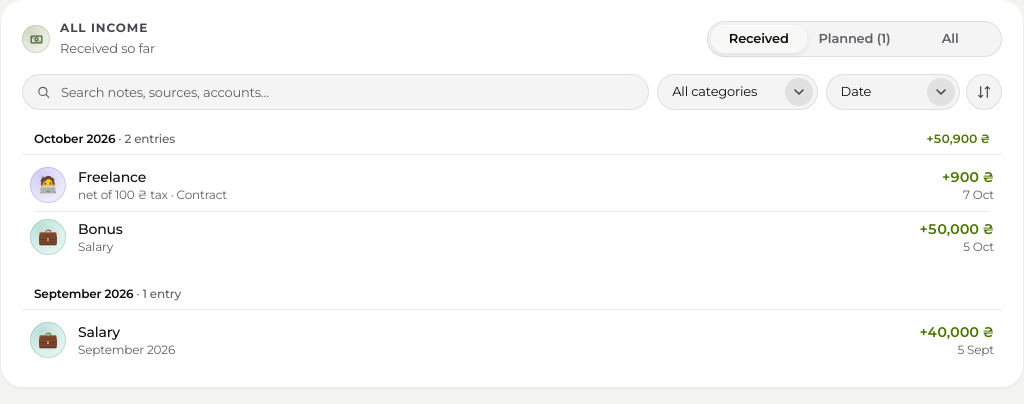
Scenario: IncomeListCard › shows the planned income on request
Click the radio button labelled "Planned (1)": click(854, 38) x1=819 y1=30 x2=890 y2=46
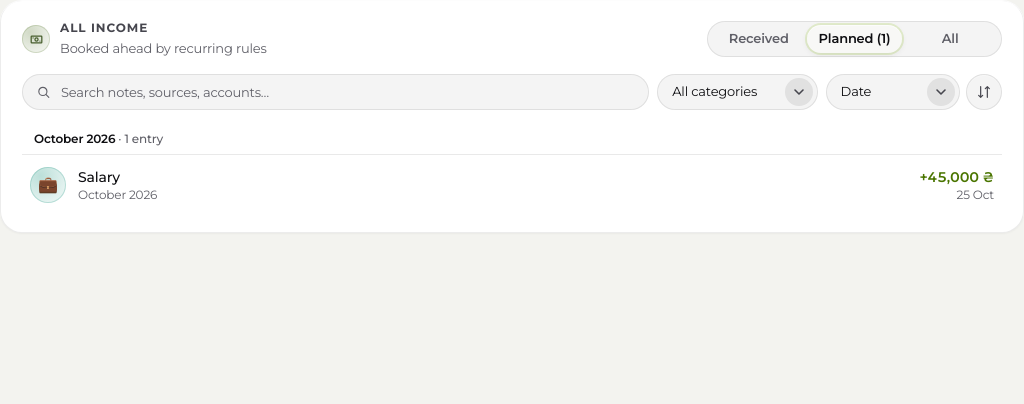
Expected: the number of list items is 1, x1=22 y1=159 x2=1002 y2=211
